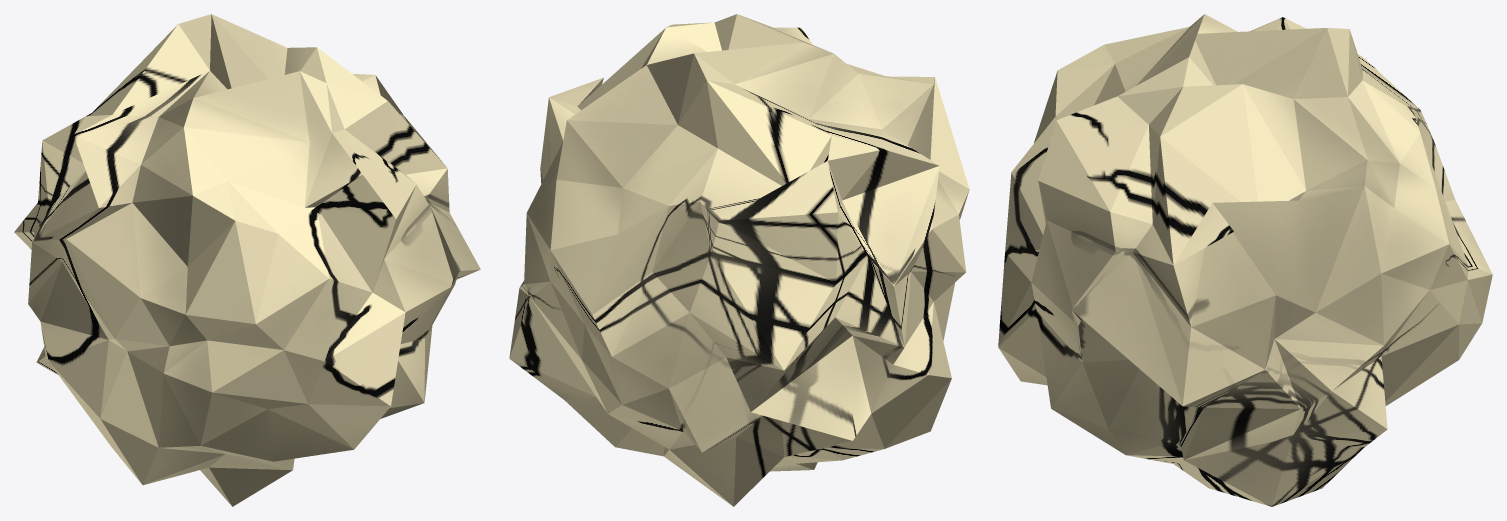
Rendered from escenariomenudeinciioprops.fbx.
3 views of the same model, side by side, from view 1: azimuth 30°, elevation 25°; view 2: azimuth 150°, elevation 25°; view 3: azimuth 270°, elevation 25° (orthographic). The views are drawn at different scales.
Visible parts, largest first — view 1: Icosphere; view 2: Icosphere; view 3: Icosphere.
Part boxes in pixels (x1,y1,x2,y2): Icosphere: (14,14,480,506); Icosphere: (509,14,969,506); Icosphere: (998,14,1492,506).
Bounding box in the file's own units: 206 × 216 × 209.
